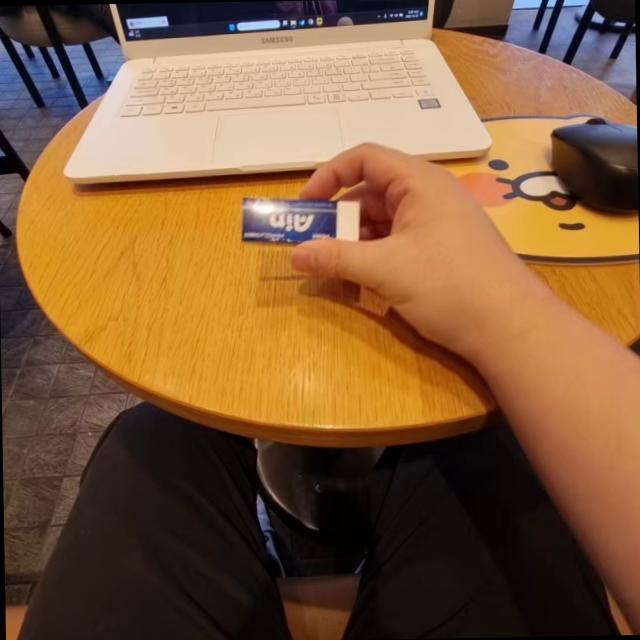eraser: (236, 188, 366, 248)
grab_eraser: (222, 148, 540, 368)
mouse: (538, 102, 638, 246)
